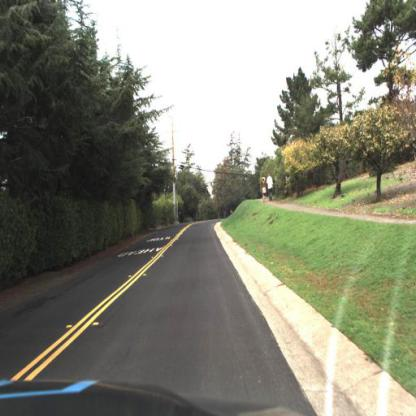pedestrian: (264, 168, 278, 209), (260, 175, 268, 206), (262, 174, 267, 203)
